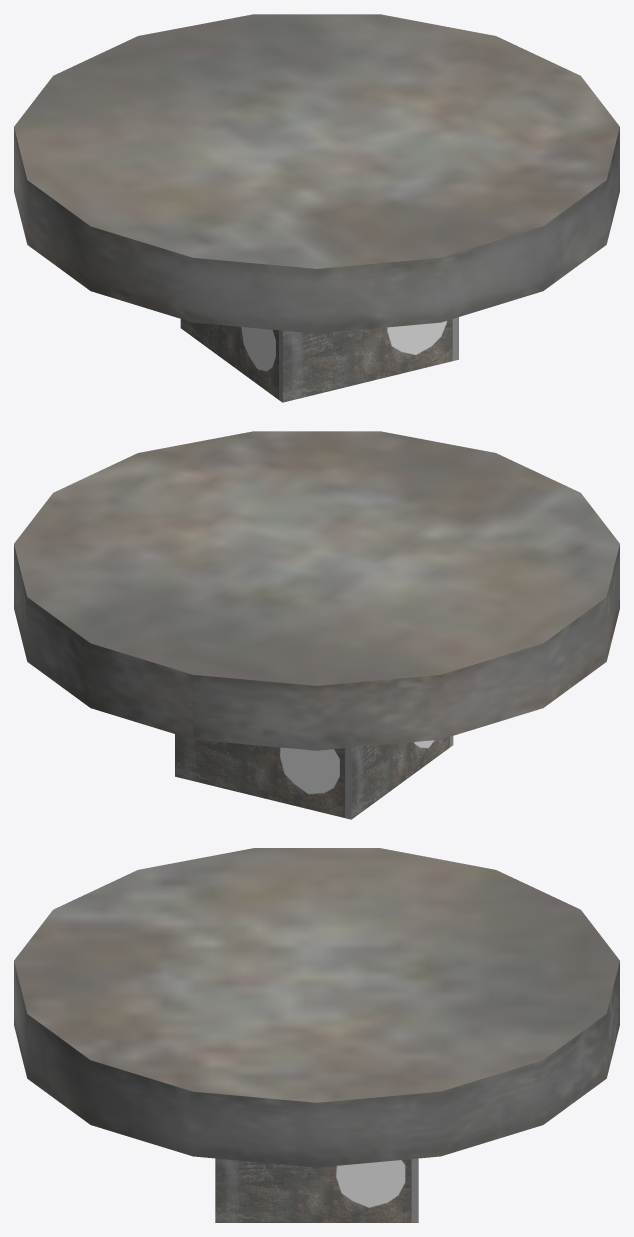
The model's file is light_ceilinglight02.dae.
3 renders of one model, top to bottom at view 1: azimuth 30°, elevation 25°; view 2: azimuth 150°, elevation 25°; view 3: azimuth 270°, elevation 25°, orthographic.
Visible parts, largest first — view 1: cel_light, _bb_bb1_ceilinglight_halo01; view 2: cel_light, _bb_bb1_ceilinglight_halo01; view 3: cel_light, _bb_bb1_ceilinglight_halo01.
Part boxes in pixels (<box>): cel_light: <box>14,14,619,333</box>; _bb_bb1_ceilinglight_halo01: <box>180,317,458,402</box>; cel_light: <box>14,431,619,750</box>; _bb_bb1_ceilinglight_halo01: <box>175,734,453,819</box>; cel_light: <box>14,848,619,1167</box>; _bb_bb1_ceilinglight_halo01: <box>215,1158,418,1222</box>.
Size of what is drawn, in the model's own units: 0.6493 by 0.243 by 0.6529.
